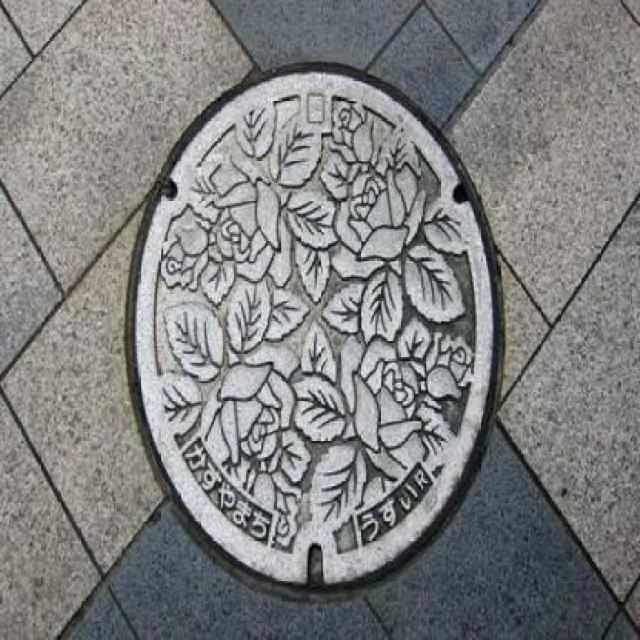Manhole: (110, 42, 522, 607)
